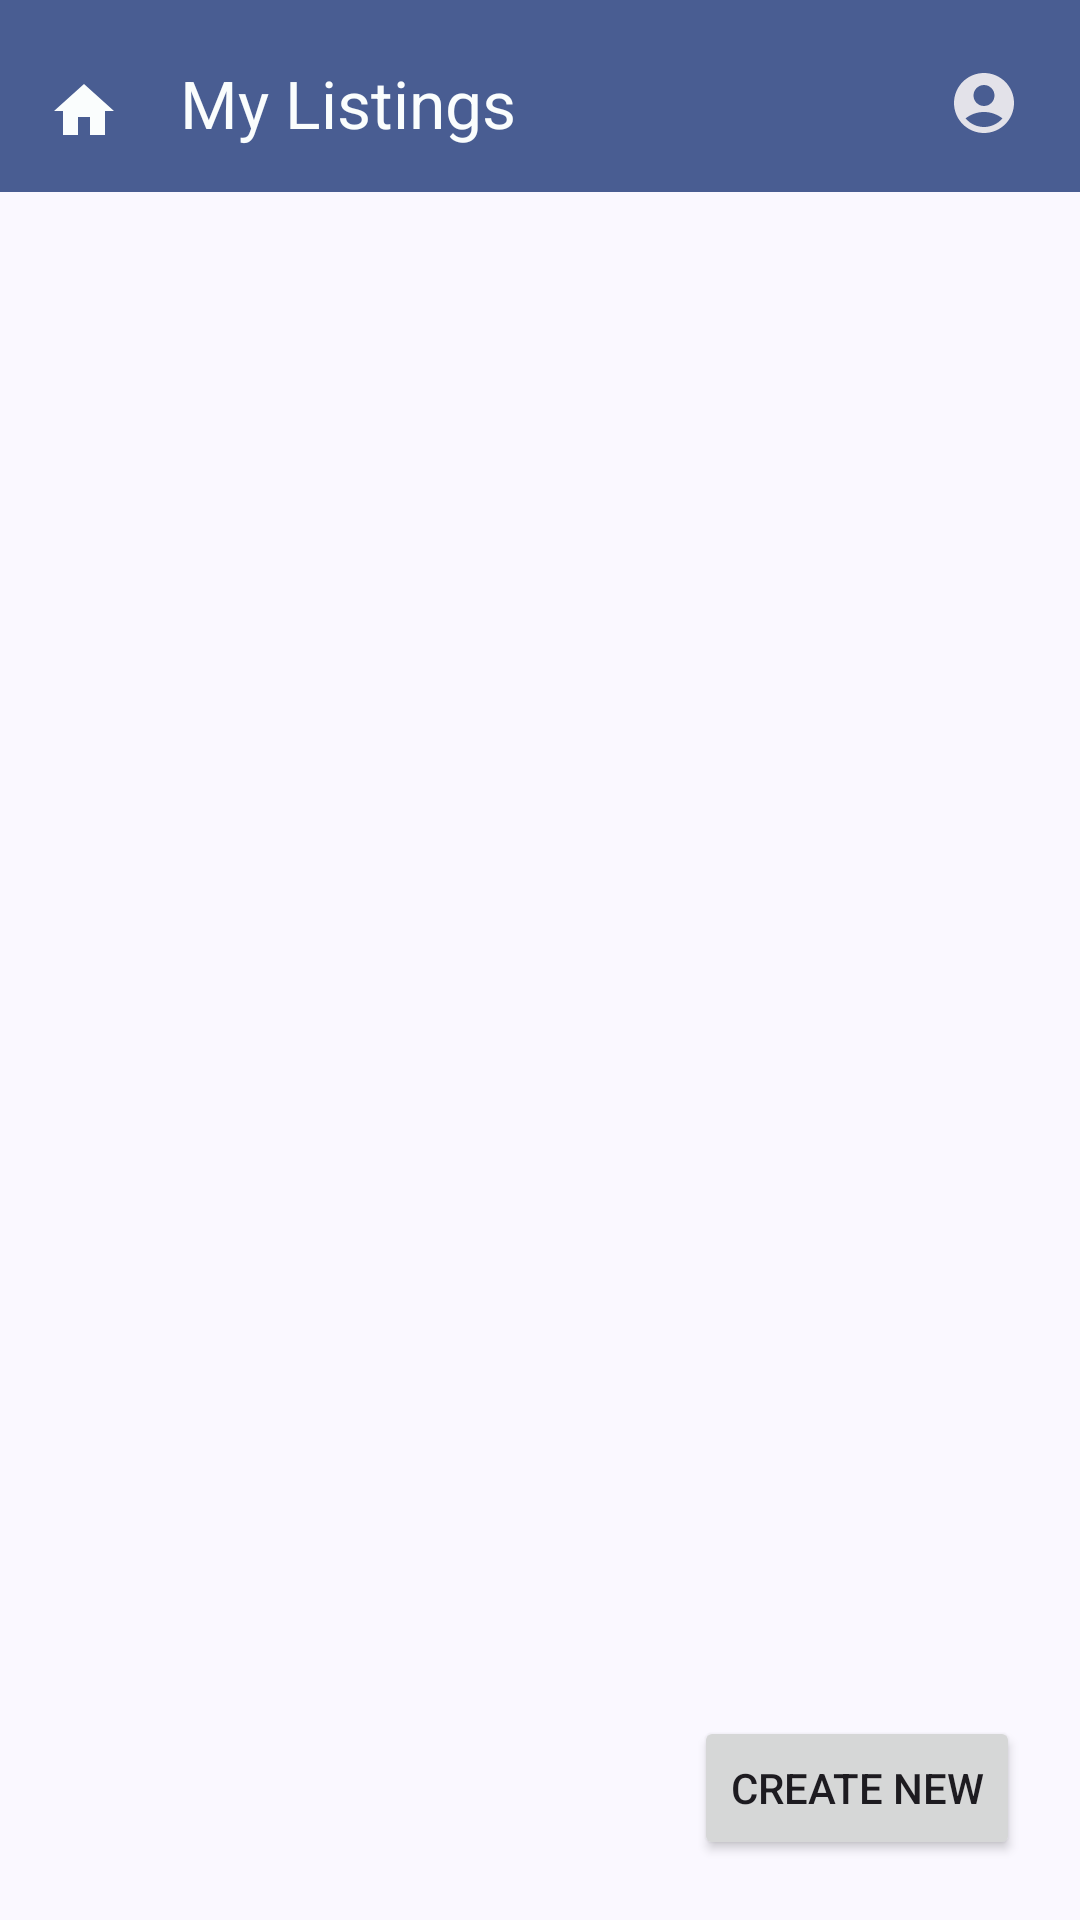

Named icons in this screenshot (1080px×1920px) and their centers, (x,y):
account: (984,103)
